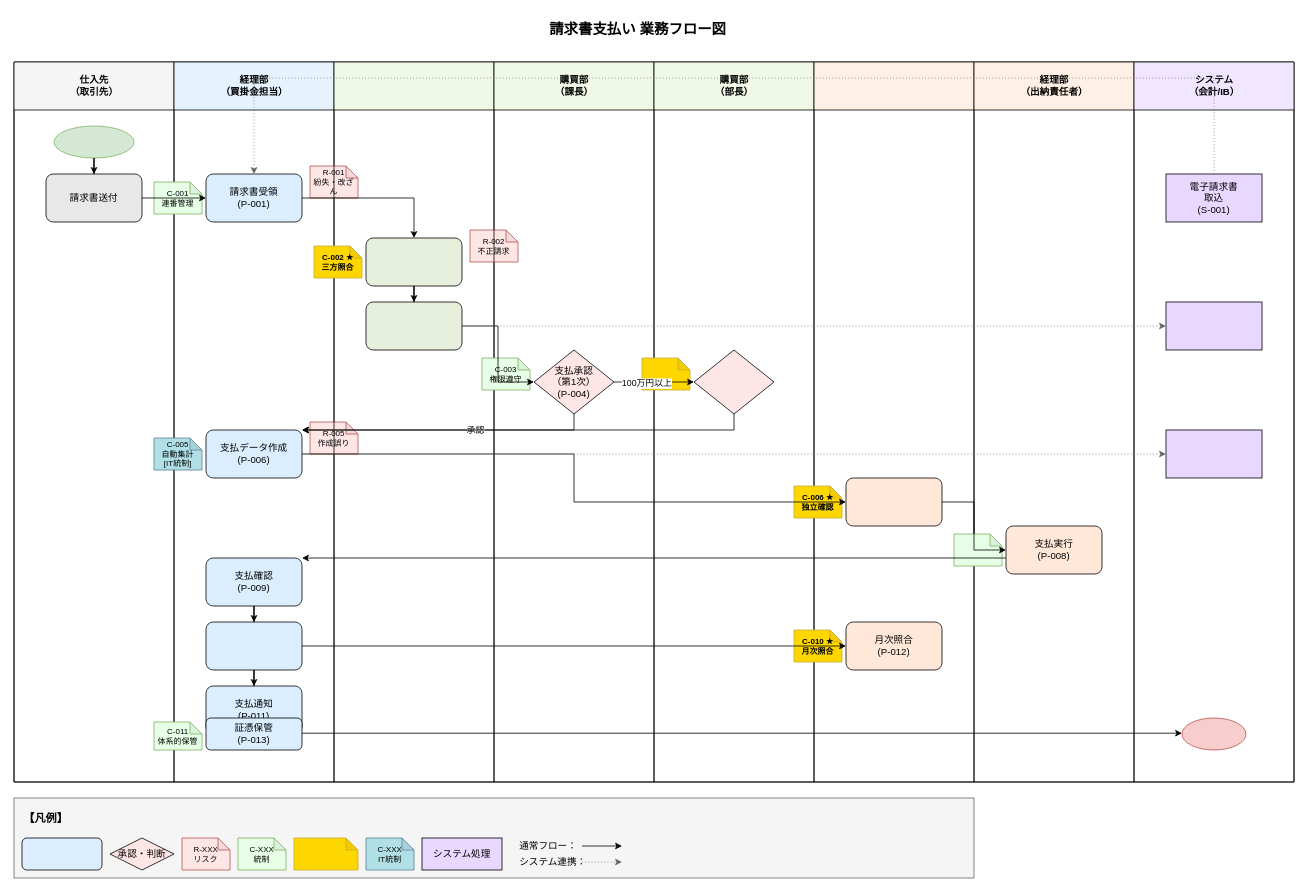
Some shapes in this 1308 by 892 pixel diagram are drawn without their labels. The shapes that lost their labels are listed below. From the top down, each one's box as (x1, y1, x2, y2) in pixels, then its label:
(53, 125, 134, 158): 開始
(365, 237, 462, 286): 請求内容確認 (P-002)
(365, 301, 462, 350): 支払申請 (P-003)
(1165, 301, 1262, 350): 承認ワークフロー (S-002)
(641, 357, 690, 390): C-004 ★ 段階承認
(693, 349, 774, 414): 支払承認 （第2次） (P-005)
(333, 61, 494, 782): 購買部 （発注担当）
(813, 61, 974, 782): 経理部 （課長）
(1165, 429, 1262, 478): FBデータ生成 (S-003)
(845, 477, 942, 526): 支払実行前確認 (P-007)
(953, 533, 1002, 566): C-007 2名承認
(205, 621, 302, 670): 買掛金消込 (P-010)
(1181, 717, 1246, 750): 終了
(21, 837, 102, 870): 業務プロセス
(293, 837, 358, 870): C-XXX ★ キーコントロール
